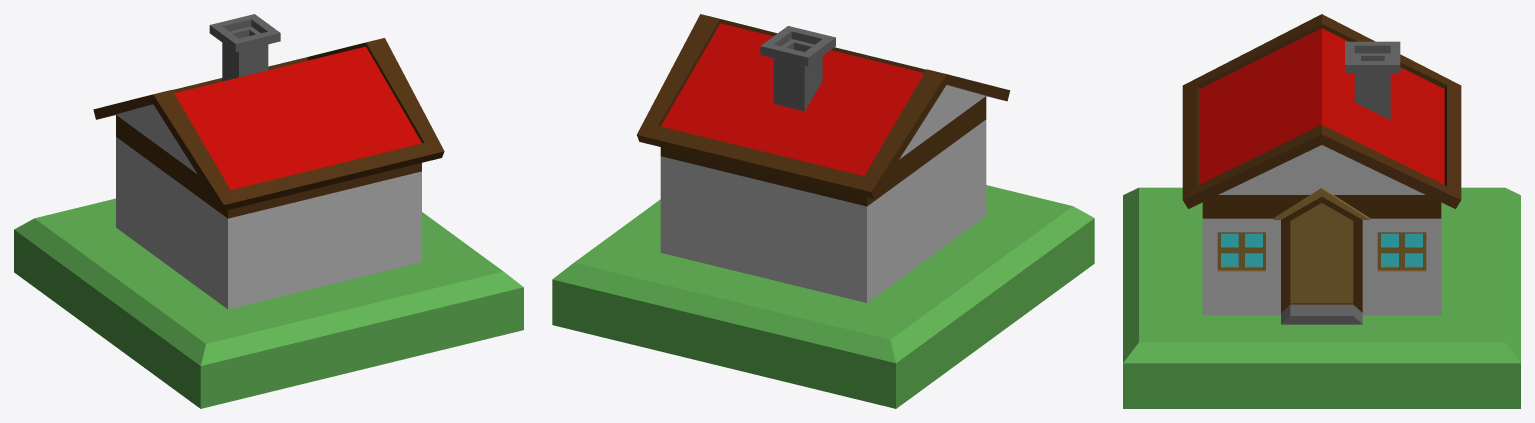
The model's file is HouseTile1.fbx.
3 views of the same model, side by side, from view 1: azimuth 30°, elevation 25°; view 2: azimuth 150°, elevation 25°; view 3: azimuth 270°, elevation 25° (orthographic). The views are drawn at different scales.
Visible parts, largest first — view 1: Cube.001, Cube, Cube.002; view 2: Cube.001, Cube, Cube.002; view 3: Cube.001, Cube, Cube.002.
Part boxes in pixels (bbox=[...]): Cube.001: bbox=[93, 38, 444, 309]; Cube: bbox=[14, 198, 523, 408]; Cube.002: bbox=[209, 14, 280, 81]; Cube.001: bbox=[637, 14, 1010, 302]; Cube: bbox=[552, 185, 1094, 408]; Cube.002: bbox=[760, 26, 835, 111]; Cube.001: bbox=[1182, 14, 1461, 324]; Cube: bbox=[1123, 187, 1520, 408]; Cube.002: bbox=[1345, 41, 1400, 119].
Size of the model in its own units: 600 by 452 by 600.
